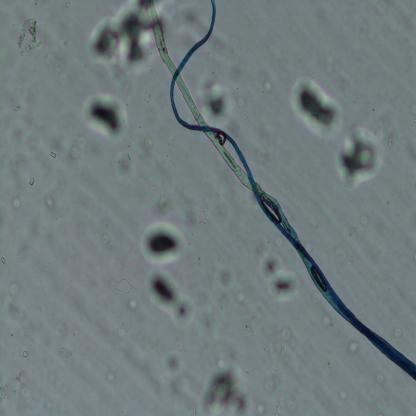Background material: (86, 6, 156, 78), (142, 268, 196, 329), (292, 77, 343, 137), (338, 127, 386, 188), (82, 90, 130, 144), (140, 221, 190, 268), (202, 367, 245, 415), (262, 253, 302, 304), (197, 79, 235, 129), (7, 119, 41, 160), (0, 365, 37, 398), (14, 18, 44, 58), (43, 44, 70, 86), (206, 262, 228, 313), (66, 131, 89, 164), (162, 348, 185, 381), (328, 241, 353, 269), (113, 150, 140, 175), (6, 150, 30, 178), (39, 190, 63, 216), (193, 304, 214, 333), (1, 76, 20, 108), (155, 196, 177, 218), (112, 277, 136, 296), (142, 134, 158, 160), (371, 391, 389, 412), (5, 296, 22, 318), (345, 336, 363, 356), (229, 285, 246, 306), (56, 342, 74, 361), (252, 146, 270, 165), (282, 396, 299, 416), (370, 0, 392, 15), (373, 364, 388, 386), (253, 397, 269, 416), (262, 373, 276, 394), (147, 182, 163, 200), (355, 206, 369, 226), (268, 321, 280, 343), (320, 311, 334, 329), (195, 209, 208, 228), (7, 280, 20, 298), (106, 368, 118, 387), (280, 327, 294, 343), (262, 76, 273, 96), (271, 231, 286, 245), (213, 352, 224, 371), (340, 383, 350, 403), (127, 295, 139, 311), (271, 398, 282, 415), (100, 230, 111, 245), (346, 220, 355, 238), (117, 327, 126, 344), (10, 195, 20, 210), (388, 129, 396, 147), (241, 110, 252, 122), (237, 94, 246, 108), (280, 343, 288, 358), (394, 328, 404, 338), (244, 325, 254, 333), (33, 0, 40, 7), (64, 1, 72, 7), (14, 106, 20, 112)
Cotton: (146, 0, 416, 382)
Salt: (0, 254, 7, 266), (29, 177, 35, 188), (22, 350, 29, 359), (49, 151, 58, 158)
